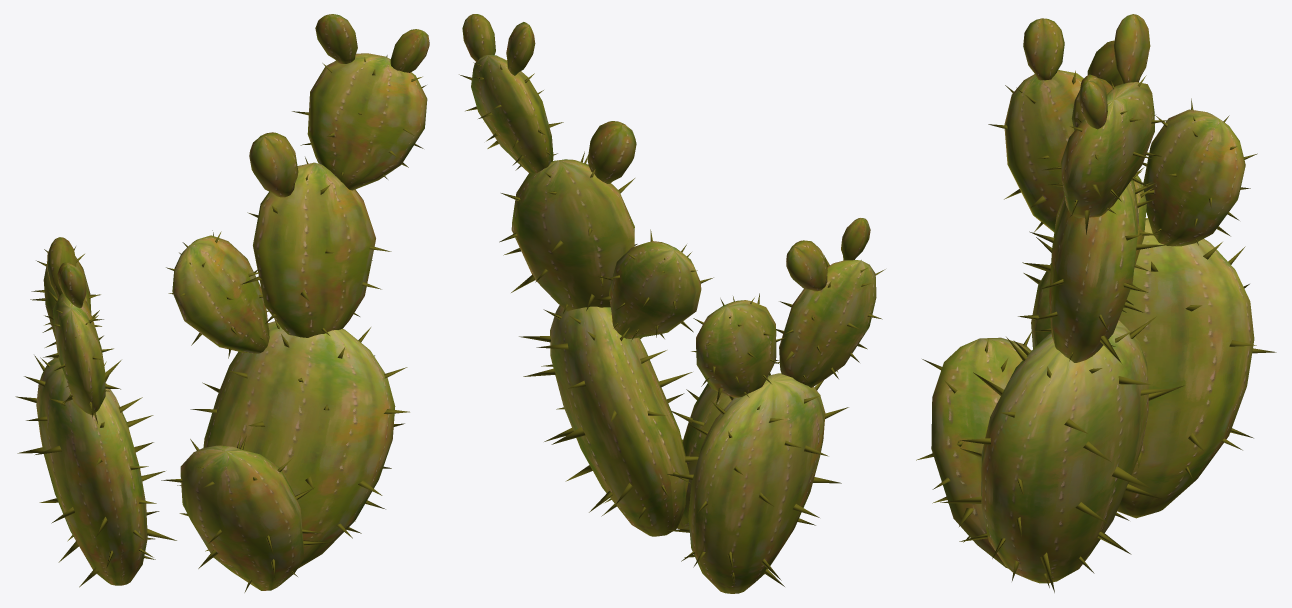
File: P_CactusPricklyPear04.obj
3 views of the same model, side by side, from view 1: azimuth 30°, elevation 25°; view 2: azimuth 150°, elevation 25°; view 3: azimuth 270°, elevation 25° (orthographic). The views are drawn at different scales.
Bounding box in the file's own units: 1.42 × 1.76 × 0.9218.
